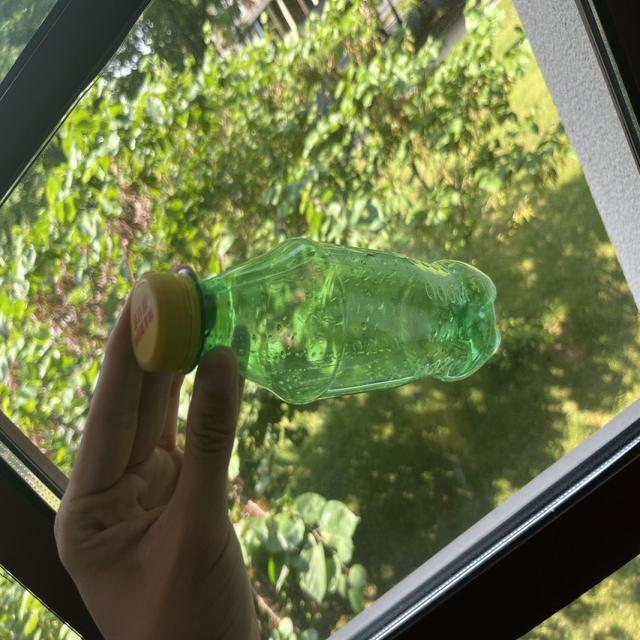empty: (130, 238, 500, 403)
